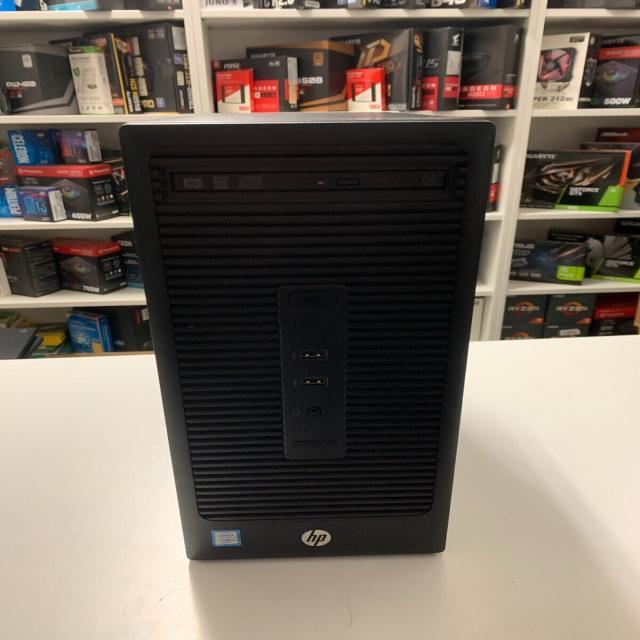Desktop-PC: (116, 102, 504, 580)
